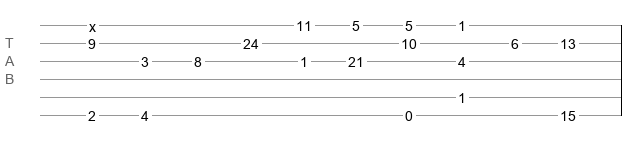0: (405, 108, 413, 118)
1: (300, 54, 308, 64), (458, 90, 466, 100), (458, 18, 466, 28)
10: (401, 36, 417, 46)
11: (296, 18, 312, 28)
13: (560, 36, 576, 46)
15: (560, 108, 576, 118)
2: (88, 108, 96, 118)
21: (348, 54, 364, 64)
24: (243, 36, 259, 46)
3: (141, 54, 149, 64)
4: (141, 108, 149, 118), (458, 54, 466, 64)
5: (352, 18, 360, 28), (405, 18, 413, 28)
6: (511, 36, 519, 46)
8: (194, 54, 202, 64)
9: (88, 36, 96, 46)
x: (89, 19, 96, 27)
